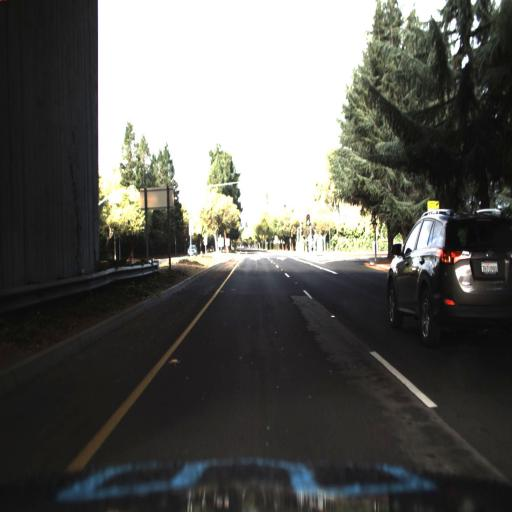car: (384, 204, 511, 350), (186, 241, 198, 259)
trafficLight-Green: (303, 210, 311, 231)
